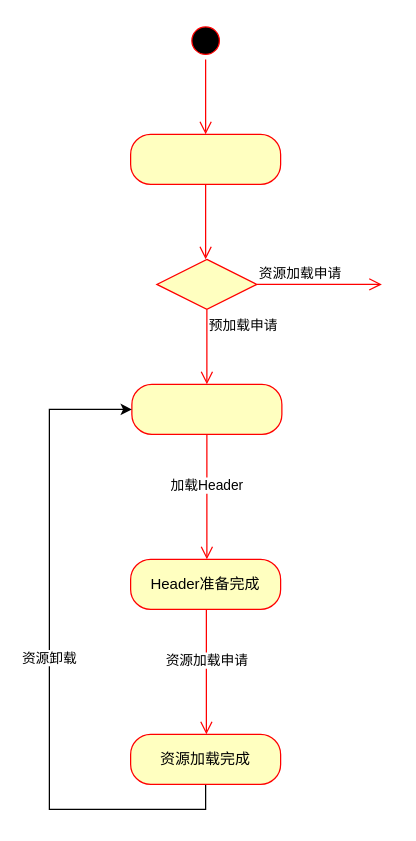
The diagram is 416 pixels wide and 841 high, and some of its shapes have lost their labels. Each missing label, with the centre of its shape:
"待Header加载完成" belongs at (x=206, y=408).
"未加载" belongs at (x=205, y=158).
